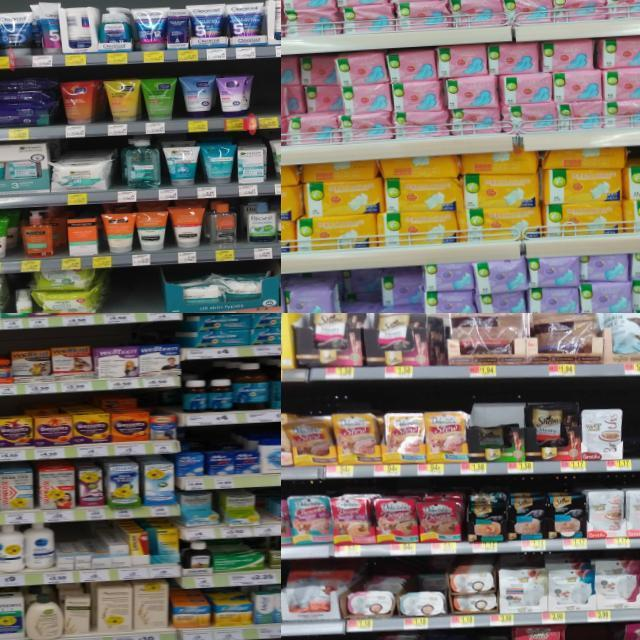Imprecise: (334, 268, 426, 316), (405, 567, 453, 618), (104, 394, 148, 448), (351, 574, 404, 616)
